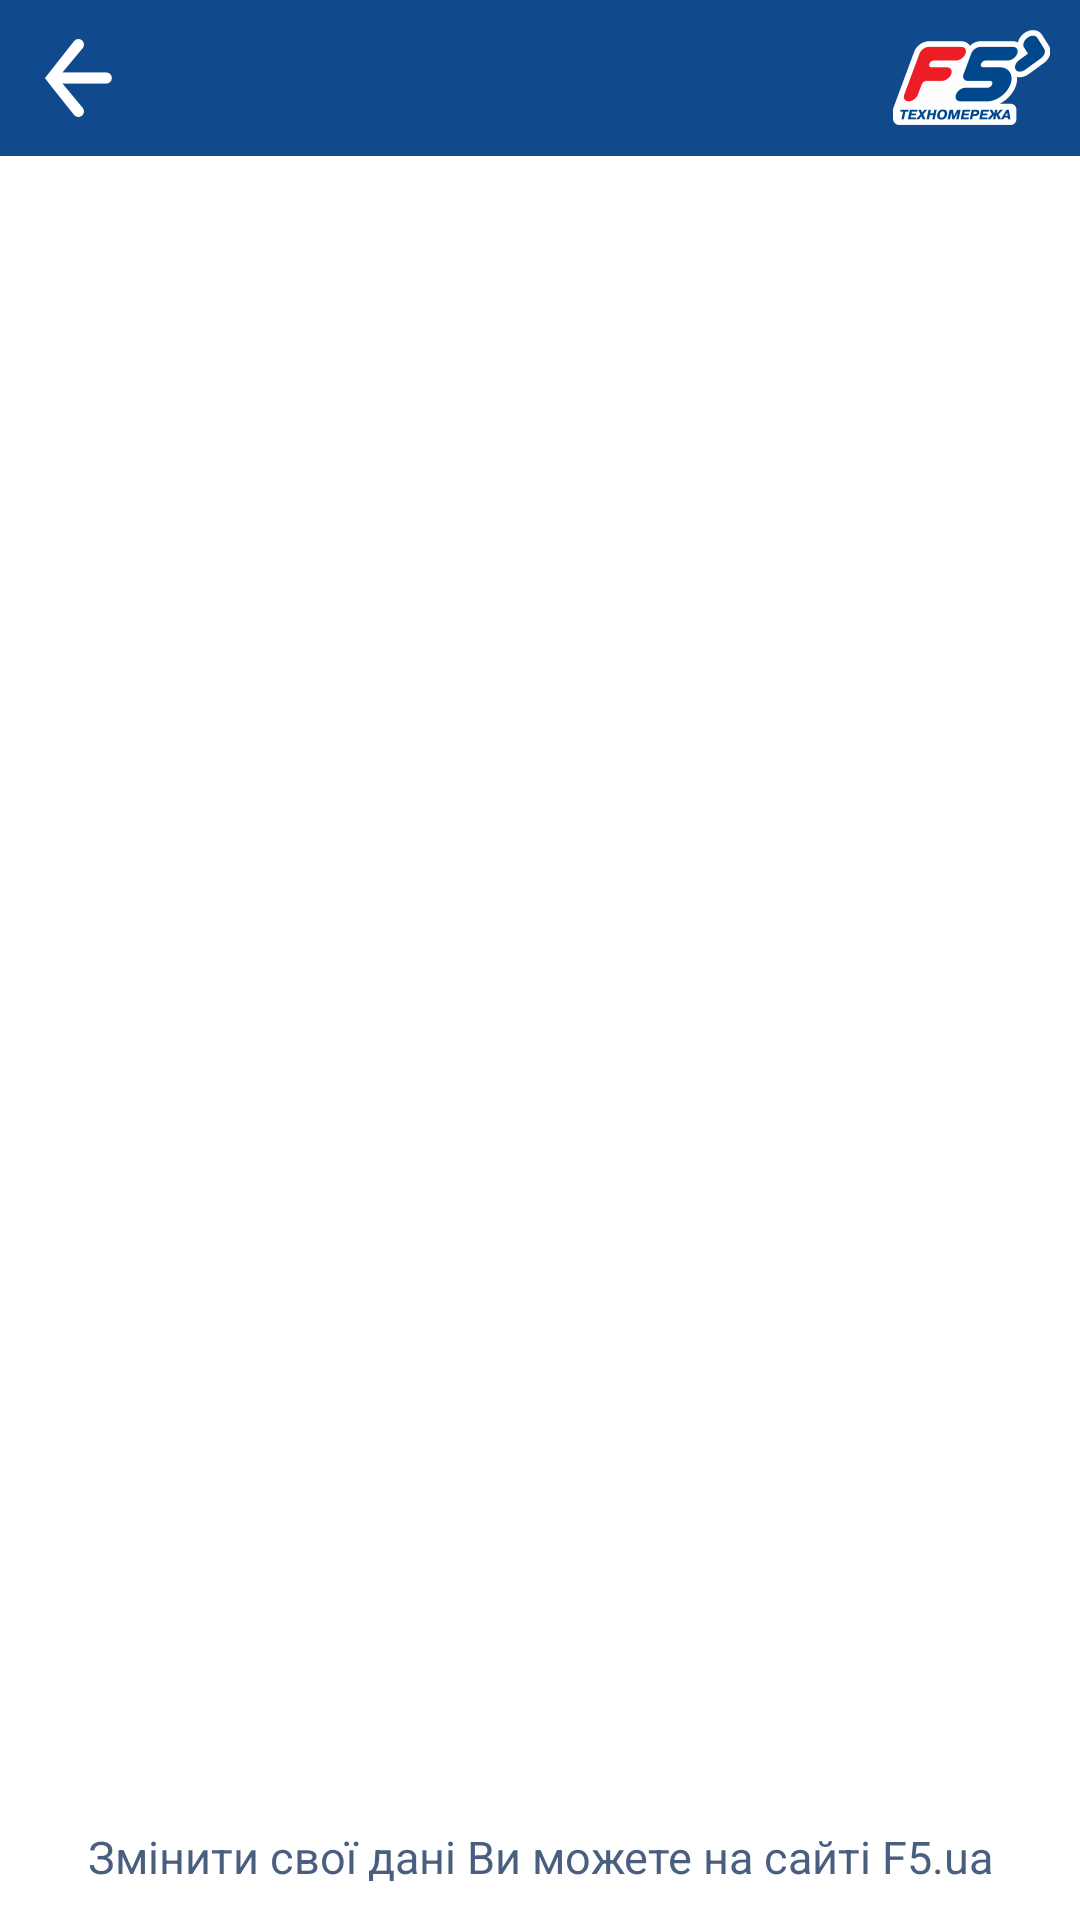

Icon bounding boxes for this 1080 x 1920 phone screenshot, format BBox(x1, y1, x2, y2):
back: BBox(45, 39, 112, 117)
